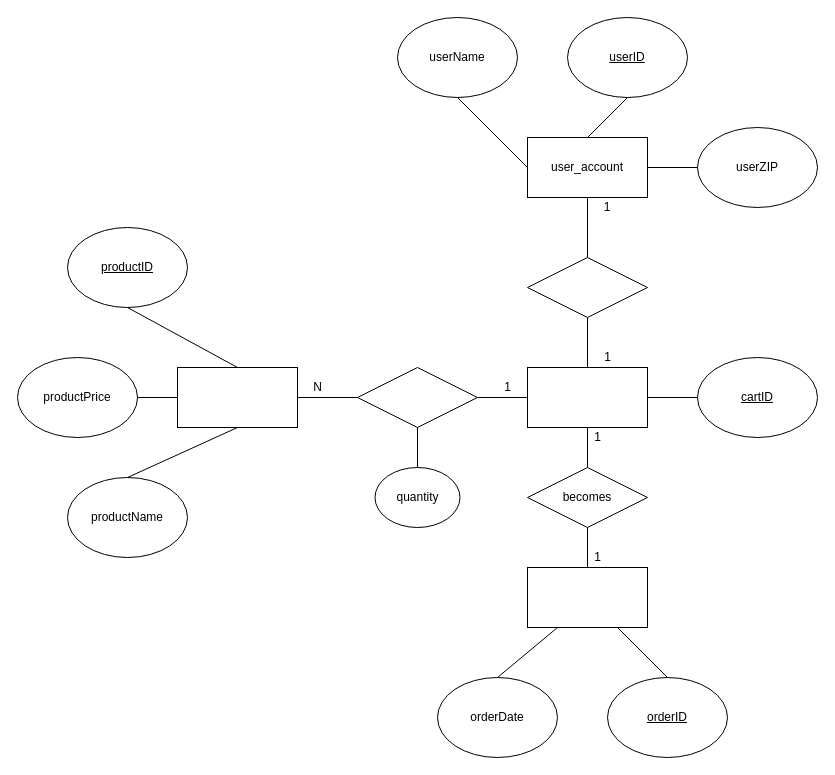
This 835x775 diagram has some shape labels left out. Here are the shapes that lost their labels. From the top down, the centre of each, then its label:
(x=587, y=287): generates
(x=237, y=397): product
(x=417, y=397): has
(x=587, y=397): user_cart
(x=587, y=597): order
